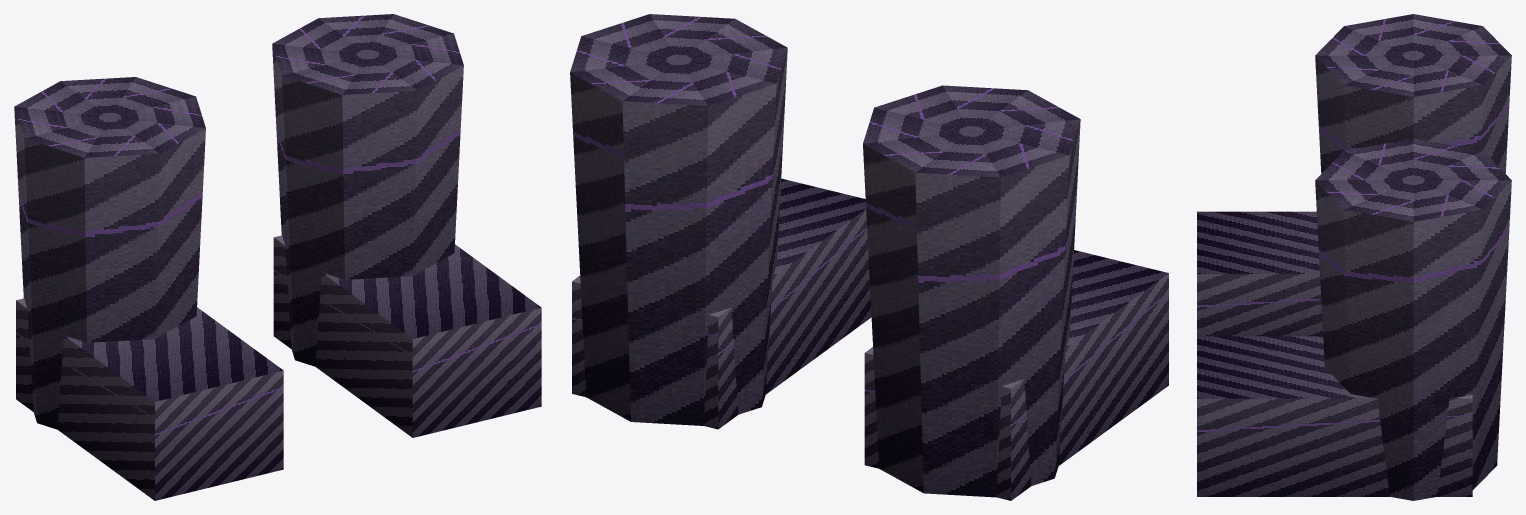
Rendered from botas_de_obsidiana.glb.
3 views of the same model, side by side, from view 1: azimuth 30°, elevation 25°; view 2: azimuth 150°, elevation 25°; view 3: azimuth 270°, elevation 25° (orthographic). The views are drawn at different scales.
Visible parts, largest first — view 1: botas_de_obsidiana; view 2: botas_de_obsidiana; view 3: botas_de_obsidiana.
Boxes of the visible parts, left/top/right/bottom form: botas_de_obsidiana: left=14, top=14, right=541, bottom=500; botas_de_obsidiana: left=570, top=14, right=1168, bottom=500; botas_de_obsidiana: left=1197, top=14, right=1511, bottom=500.
Bounding box in the file's own units: 0.5 × 0.32 × 0.32.
Materials: 1 (1 with a texture image).
